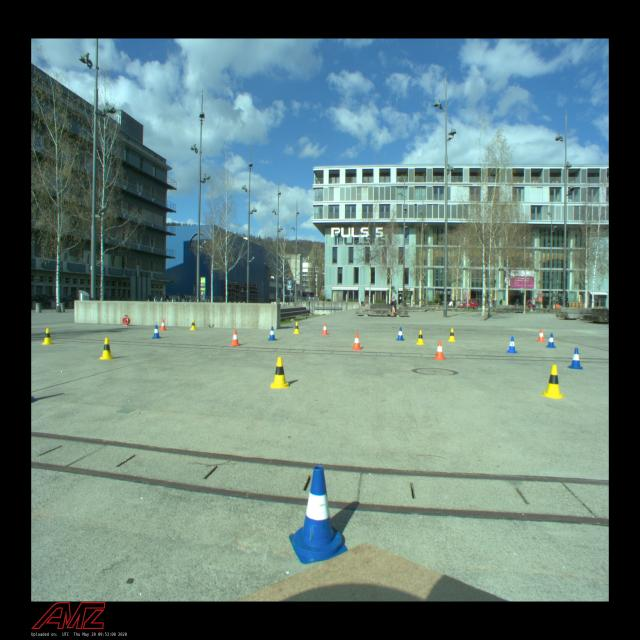blue_cone: (289, 466, 348, 564), (567, 348, 584, 370), (506, 336, 517, 354), (546, 333, 557, 348), (268, 326, 277, 341), (152, 325, 161, 339), (396, 327, 404, 341)
orange_cone: (434, 340, 446, 360), (352, 333, 362, 350), (230, 330, 240, 346), (537, 329, 545, 342), (160, 319, 167, 331), (322, 323, 328, 335)
yellow_cone: (540, 364, 566, 399), (271, 357, 289, 388), (98, 337, 115, 360), (41, 328, 54, 345), (416, 330, 426, 345), (448, 328, 455, 342), (293, 322, 300, 334), (190, 319, 197, 330)
